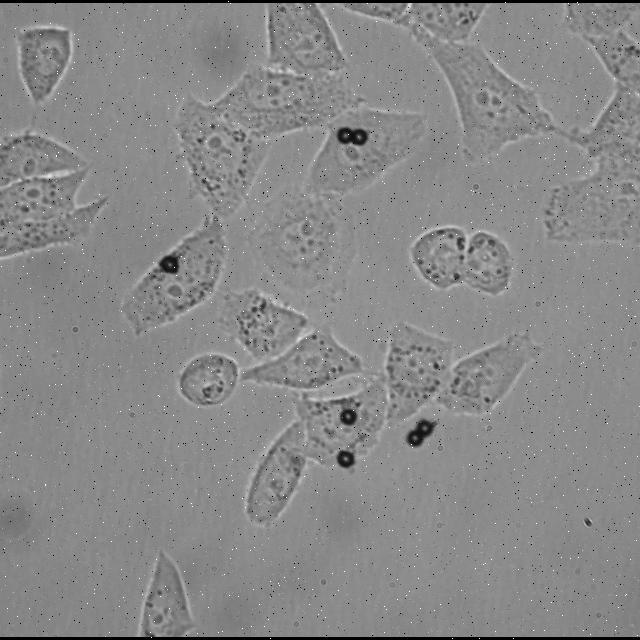microbeads: (349, 124, 368, 150), (160, 254, 180, 274), (405, 429, 425, 449), (335, 126, 355, 146), (337, 448, 355, 469), (339, 408, 356, 427)
